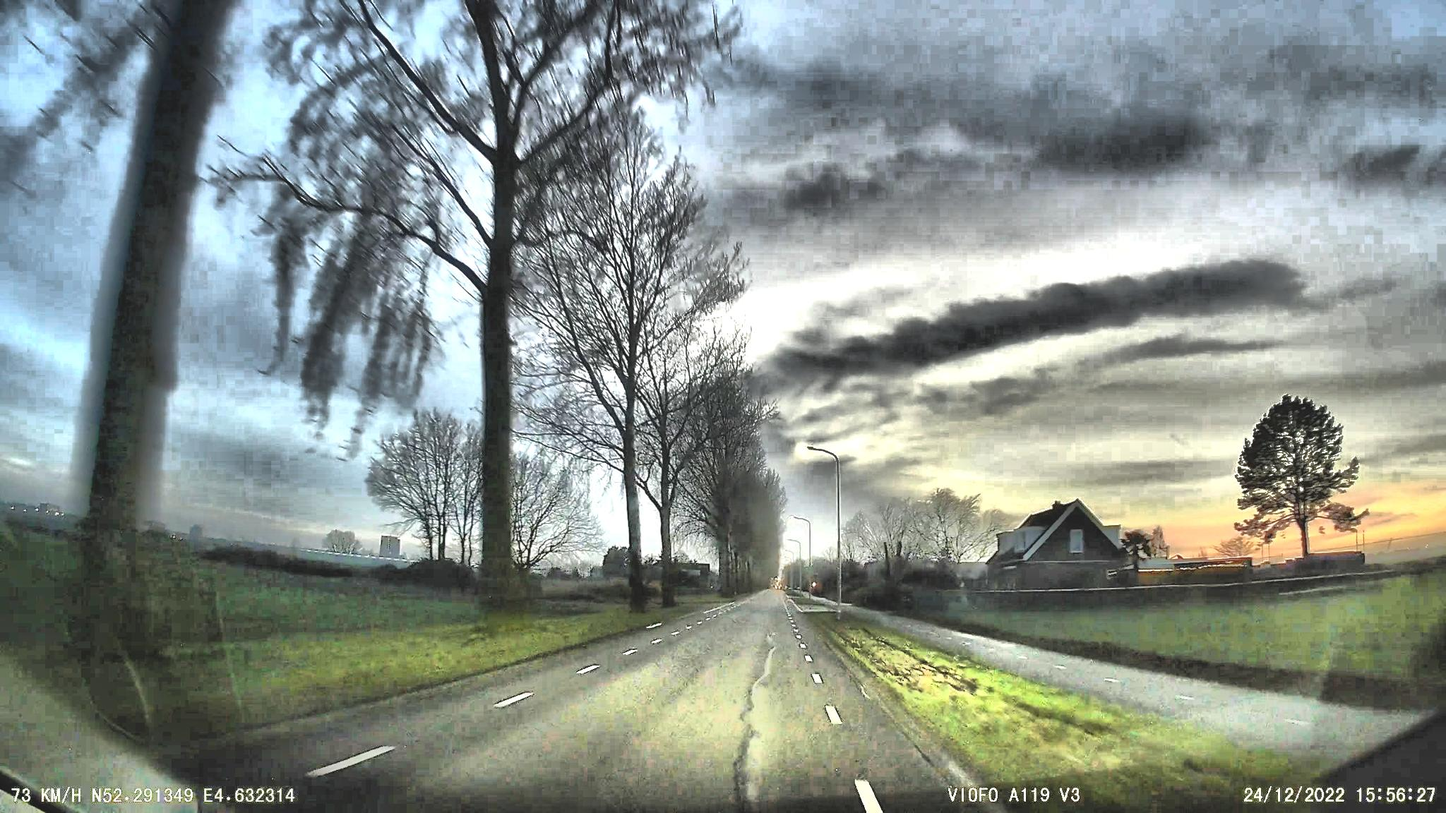Roads: (234, 599, 932, 802)
